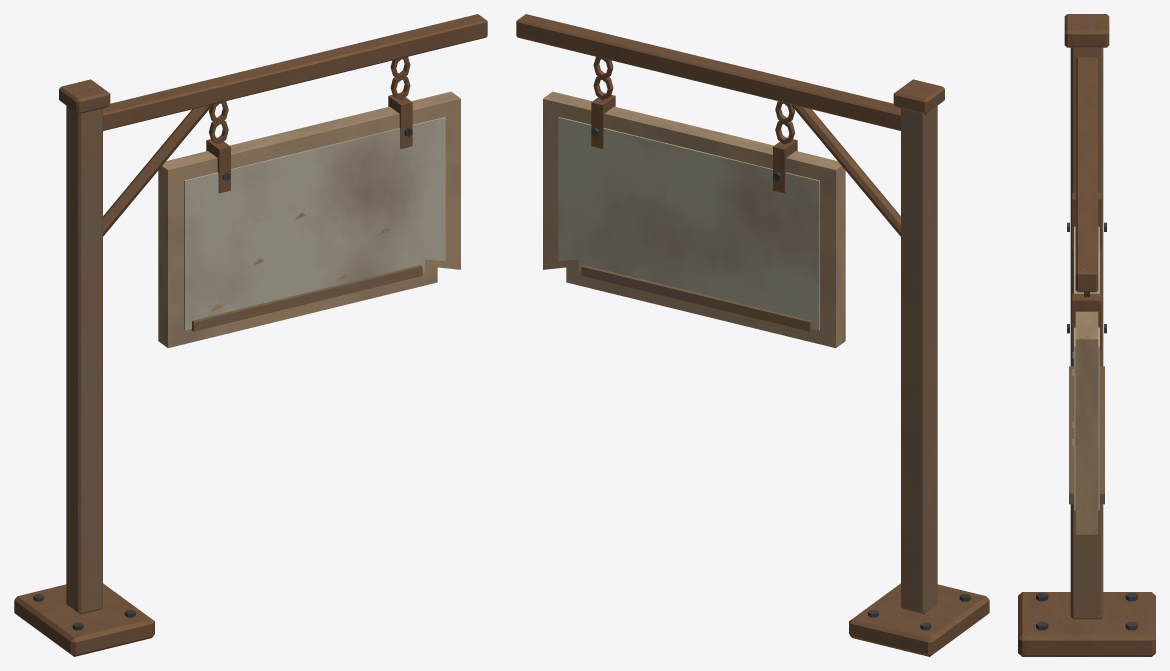
Rendered from W15_blank_shop_signboard_v1.glb.
The picture shows the model from 3 angles, left to right: view 1: azimuth 30°, elevation 25°; view 2: azimuth 150°, elevation 25°; view 3: azimuth 270°, elevation 25°; orthographic projection. The views are drawn at different scales.
Visible parts, largest first — view 1: Foot plate; view 2: Foot plate; view 3: Foot plate.
Part boxes in pixels (x1,y1,x2,y2): Foot plate: [14, 14, 487, 656]; Foot plate: [516, 14, 989, 656]; Foot plate: [1018, 14, 1155, 656].
Bounding box in the file's own units: 1.72 × 2 × 0.4076.
Materials: 5 (5 with a texture image).
